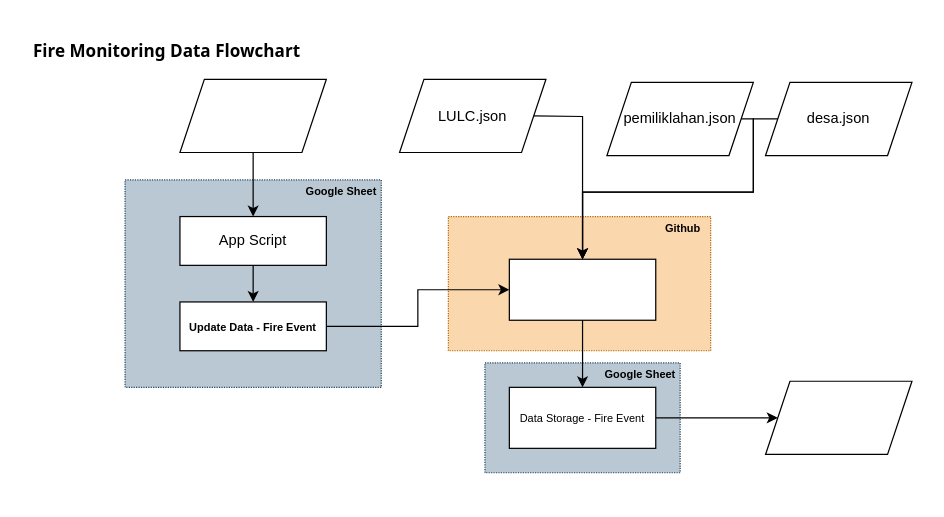
The diagram is 944 pixels wide and 517 high, and some of its shapes have lost their labels. The centre of each missing label's shape, as x and y in pixels:
"Dashboard Looker Studio" goes at point (838, 417).
"Firms Data API" goes at point (252, 115).
"github action" goes at point (582, 289).
